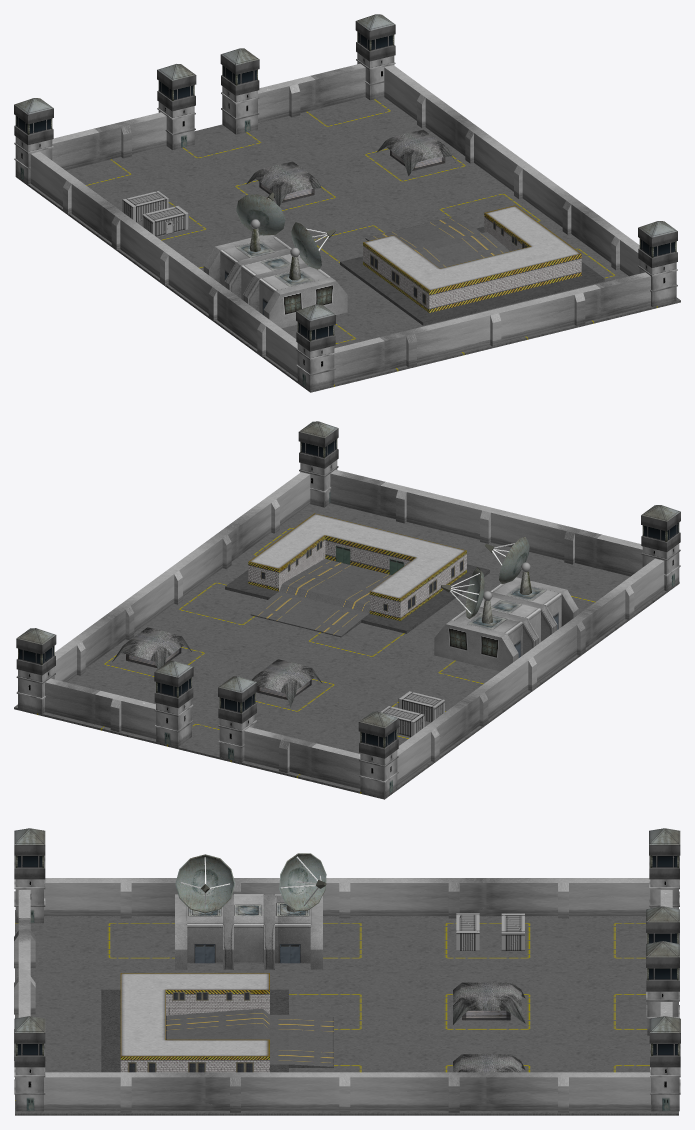
3 renders of one model, top to bottom at view 1: azimuth 30°, elevation 25°; view 2: azimuth 150°, elevation 25°; view 3: azimuth 270°, elevation 25°, orthographic. The views are drawn at different scales.
Visible parts, largest first — view 1: ground, wall, bild_1, bild, tower_4, tower_1, tower_6, tower_3, tower_2, tower_5, Box204, Box203 (+4 smaller); view 2: ground, wall, bild_1, bild, tower_5, tower_1, tower_2, tower_6, tower_3, tower_4, Box204, Box203 (+4 smaller); view 3: ground, wall, bild_1, bild, tower_3, tower_2, antenna, Box203, tower_4, tower_1, tower_5, antenna_1 (+4 smaller).
Boxes of the visible parts, x1,y1,x2,y2 form: ground: [15, 97, 680, 392]; wall: [30, 63, 650, 383]; bild_1: [340, 205, 604, 325]; bild: [203, 235, 347, 328]; tower_4: [296, 304, 335, 390]; tower_1: [220, 48, 259, 134]; tower_6: [157, 64, 196, 150]; tower_3: [638, 221, 677, 306]; tower_2: [355, 14, 395, 100]; tower_5: [14, 98, 53, 183]; Box204: [376, 129, 455, 175]; Box203: [246, 161, 323, 206]; ground: [14, 503, 679, 799]; wall: [45, 469, 664, 788]; bild_1: [225, 513, 489, 637]; bild: [434, 577, 578, 671]; tower_5: [358, 711, 398, 797]; tower_1: [154, 660, 193, 746]; tower_2: [16, 628, 56, 714]; tower_6: [218, 676, 257, 762]; tower_3: [298, 421, 338, 507]; tower_4: [641, 505, 680, 590]; Box204: [112, 627, 191, 668]; Box203: [251, 659, 322, 707]; ground: [15, 910, 678, 1115]; wall: [14, 878, 672, 1112]; bild_1: [101, 973, 333, 1072]; bild: [175, 894, 322, 969]; tower_3: [14, 1016, 45, 1111]; tower_2: [649, 1016, 680, 1111]; antenna: [175, 854, 235, 913]; Box203: [453, 982, 525, 1024]; tower_4: [14, 828, 45, 923]; tower_1: [646, 941, 679, 1035]; tower_5: [649, 828, 680, 908]; antenna_1: [279, 853, 326, 912].
Size of the model in its own units: 56.7 by 13.02 by 78.25.
